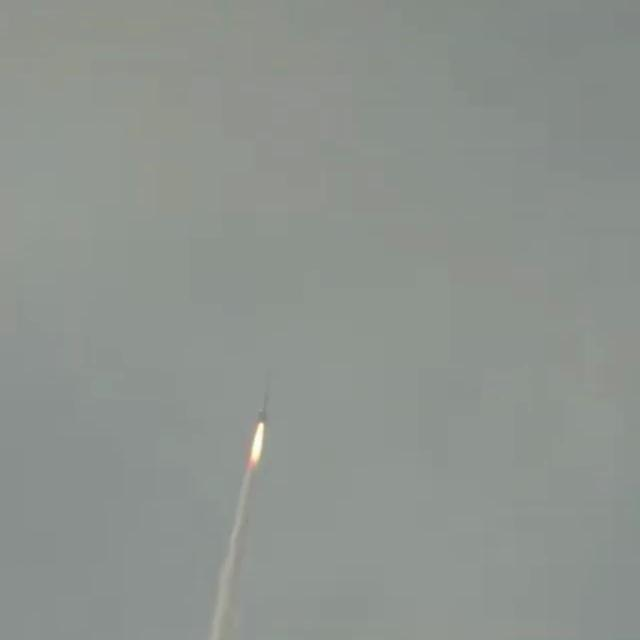smoke_trail_with_rocket: (206, 382, 271, 640)
